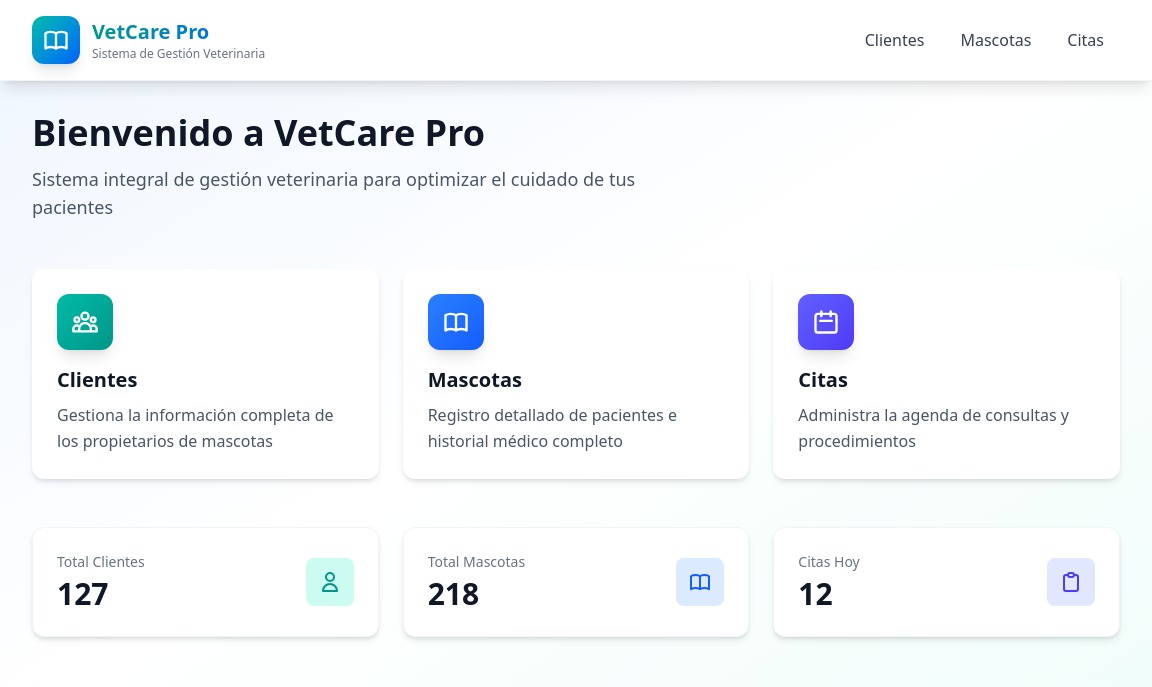
Scenario: MascotApp E2E Tests › Página de Inicio › navega a la página de citas al hacer clic
The width and height of the screenshot is (1152, 687).
Click the heading "Citas": (823,380) [798, 366, 848, 393]
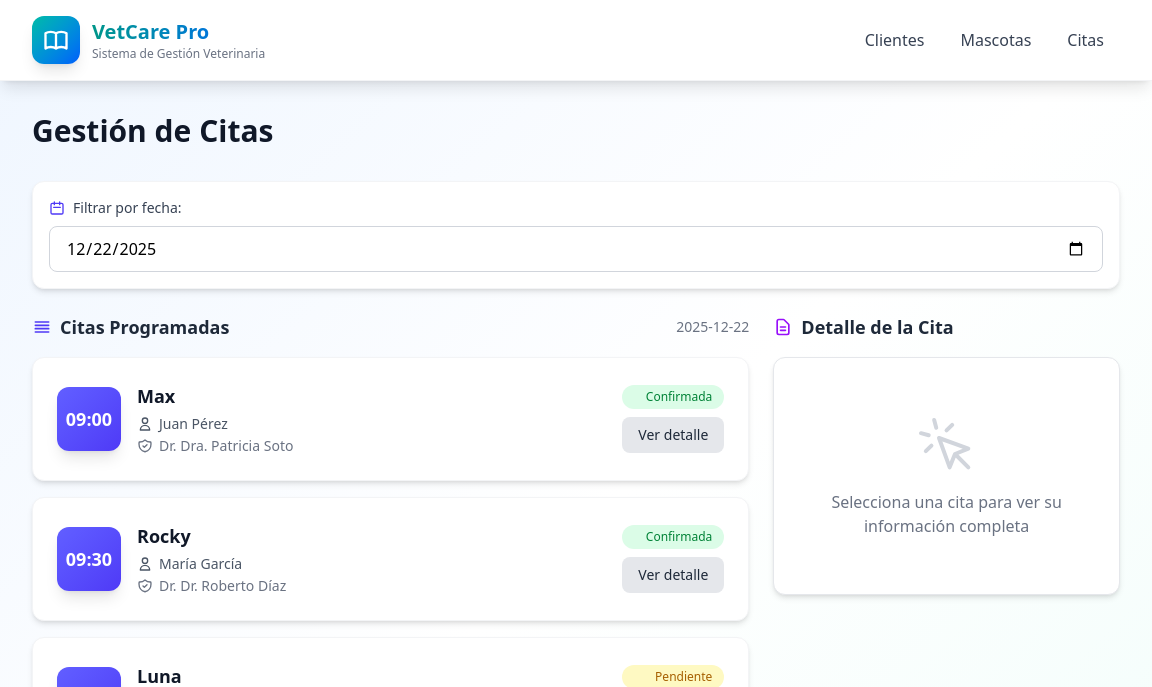
expect the heading "Gestión de Citas" is shown: met, box [32, 110, 274, 151]
